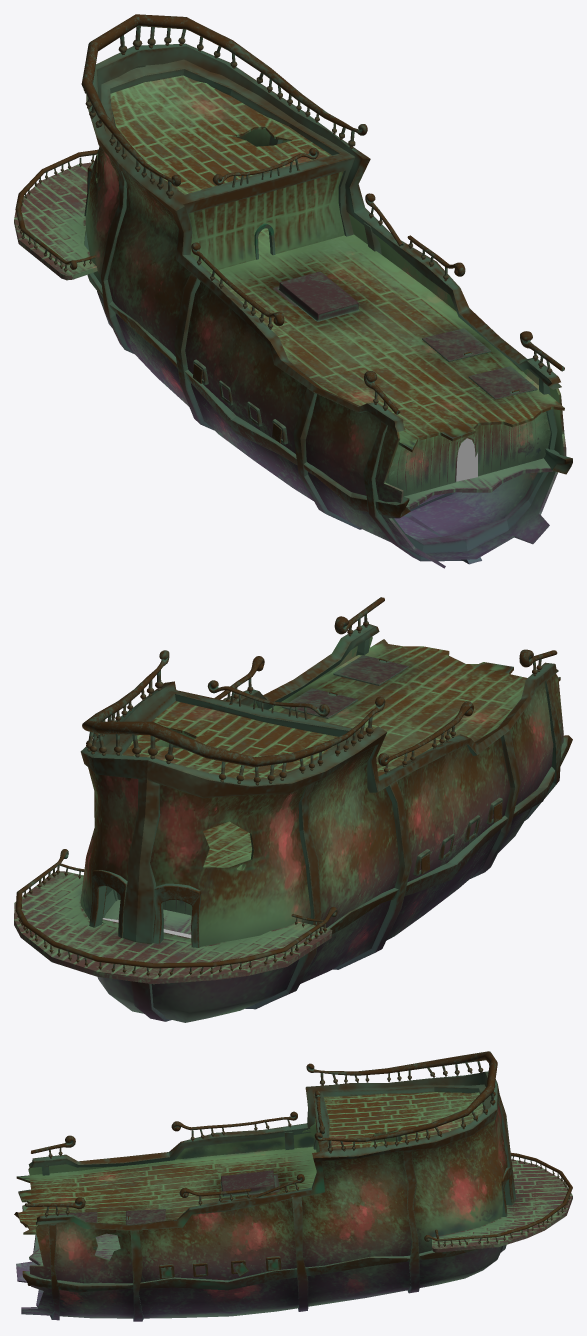
File: Modelisation_Epave_Arriere (1).fbx
3 views of the same model, one above another, from view 1: azimuth 30°, elevation 25°; view 2: azimuth 150°, elevation 25°; view 3: azimuth 270°, elevation 25° (orthographic). The views are drawn at different scales.
Parts seen in each view (by area): view 1: EpaveArriere_Coque_low, polySurface1, EpaveArriere_Piece_low, EpaveArriere_RebordPrincipal_low, EpaveArriere_RebordHautPiece_low, EpaveArriere_Mur04_low, EpaveArriere_SolBalcon_low, Epave_BarriereBack1_low, EpaveArriere_RebordSol2_low, EpaveArriere_RebordMur01_low, pCube30_low, EpaveArriere_RebordMur03_low (+8 smaller); view 2: EpaveArriere_Coque_low, polySurface1, EpaveArriere_SolBalcon_low, EpaveArriere_RebordPrincipal_low, EpaveArriere_Piece_low, Epave_RebordMilieu_low, Epave_BarriereBack1_low, EpaveArriere_RebordSol2_low, EpaveArriere_RebordHautPiece_low, EpaveArriere_RebordMur04_low, Epave_BarriereL2_low, EpaveArriere_RebordMur03_low (+9 smaller); view 3: EpaveArriere_Coque_low, polySurface1, EpaveArriere_RebordPrincipal_low, EpaveArriere_Piece_low, EpaveArriere_SolBalcon_low, EpaveArriere_RebordSol2_low, Epave_BarriereBack1_low, EpaveArriere_RebordHautPiece_low, EpaveArriere_RebordMur04_low, EpaveArriere_RebordMur03_low, pCube30_low, Epave_BarriereL2_low (+7 smaller).
Boxes of the visible parts, x1,y1,x2,y2 form: EpaveArriere_Coque_low: (85, 129, 566, 568); polySurface1: (210, 228, 564, 449); EpaveArriere_Piece_low: (110, 75, 344, 271); EpaveArriere_RebordPrincipal_low: (86, 43, 561, 432); EpaveArriere_RebordHautPiece_low: (101, 59, 355, 213); EpaveArriere_Mur04_low: (385, 411, 550, 496); EpaveArriere_SolBalcon_low: (14, 162, 97, 280); Epave_BarriereBack1_low: (81, 14, 367, 186); EpaveArriere_RebordSol2_low: (84, 232, 572, 517); EpaveArriere_RebordMur01_low: (363, 379, 557, 561); pCube30_low: (273, 271, 359, 321); EpaveArriere_RebordMur03_low: (174, 222, 381, 430); EpaveArriere_Coque_low: (80, 637, 563, 1022); polySurface1: (203, 639, 560, 869); EpaveArriere_SolBalcon_low: (14, 871, 332, 984); EpaveArriere_RebordPrincipal_low: (80, 624, 558, 798); EpaveArriere_Piece_low: (122, 701, 337, 779); Epave_RebordMilieu_low: (123, 778, 171, 1021); Epave_BarriereBack1_low: (82, 650, 385, 767); EpaveArriere_RebordSol2_low: (103, 735, 572, 934); EpaveArriere_RebordHautPiece_low: (100, 689, 366, 777); EpaveArriere_RebordMur04_low: (106, 782, 321, 1009); Epave_BarriereL2_low: (15, 849, 337, 968); EpaveArriere_RebordMur03_low: (333, 781, 411, 969); EpaveArriere_Coque_low: (16, 1104, 507, 1318); polySurface1: (17, 1141, 398, 1232); EpaveArriere_RebordPrincipal_low: (28, 1071, 499, 1230); EpaveArriere_Piece_low: (316, 1092, 482, 1152); EpaveArriere_SolBalcon_low: (432, 1160, 572, 1252); EpaveArriere_RebordSol2_low: (14, 1212, 478, 1292); Epave_BarriereBack1_low: (306, 1051, 497, 1141); EpaveArriere_RebordHautPiece_low: (312, 1084, 490, 1152); EpaveArriere_RebordMur04_low: (398, 1136, 419, 1293); EpaveArriere_RebordMur03_low: (284, 1132, 308, 1311); pCube30_low: (220, 1170, 279, 1196); Epave_BarriereL2_low: (424, 1152, 572, 1241).
Size of the model in its own units: 1769 by 2233 by 4644.
